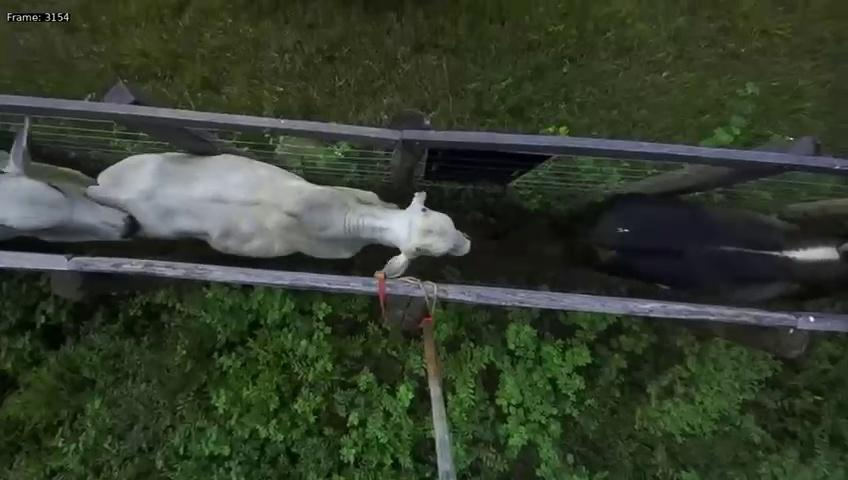cattle: (80, 145, 474, 279)
